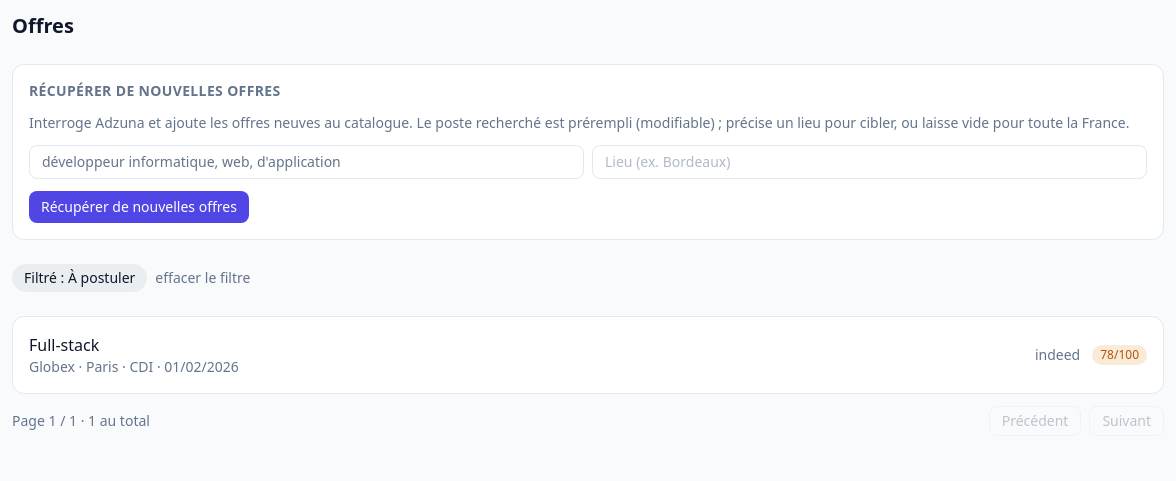
OffersPage › filtre le catalogue par étape via ?stage= (filtrage serveur) et efface le filtre
Expected: the button "Full-stack" is shown, x1=29 y1=333 x2=1019 y2=357
Expected: the button "Lead Java" is not shown
Click the button "effacer le filtre". click: (203, 278)
box: x1=155 y1=268 x2=250 y2=288
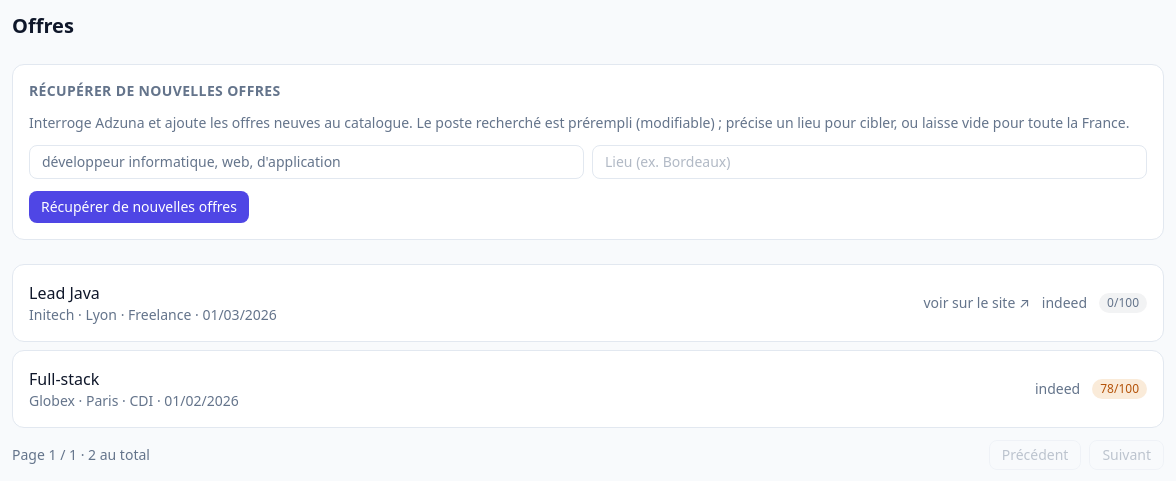
Now the button "Lead Java" is shown, box x1=29 y1=281 x2=908 y2=305
